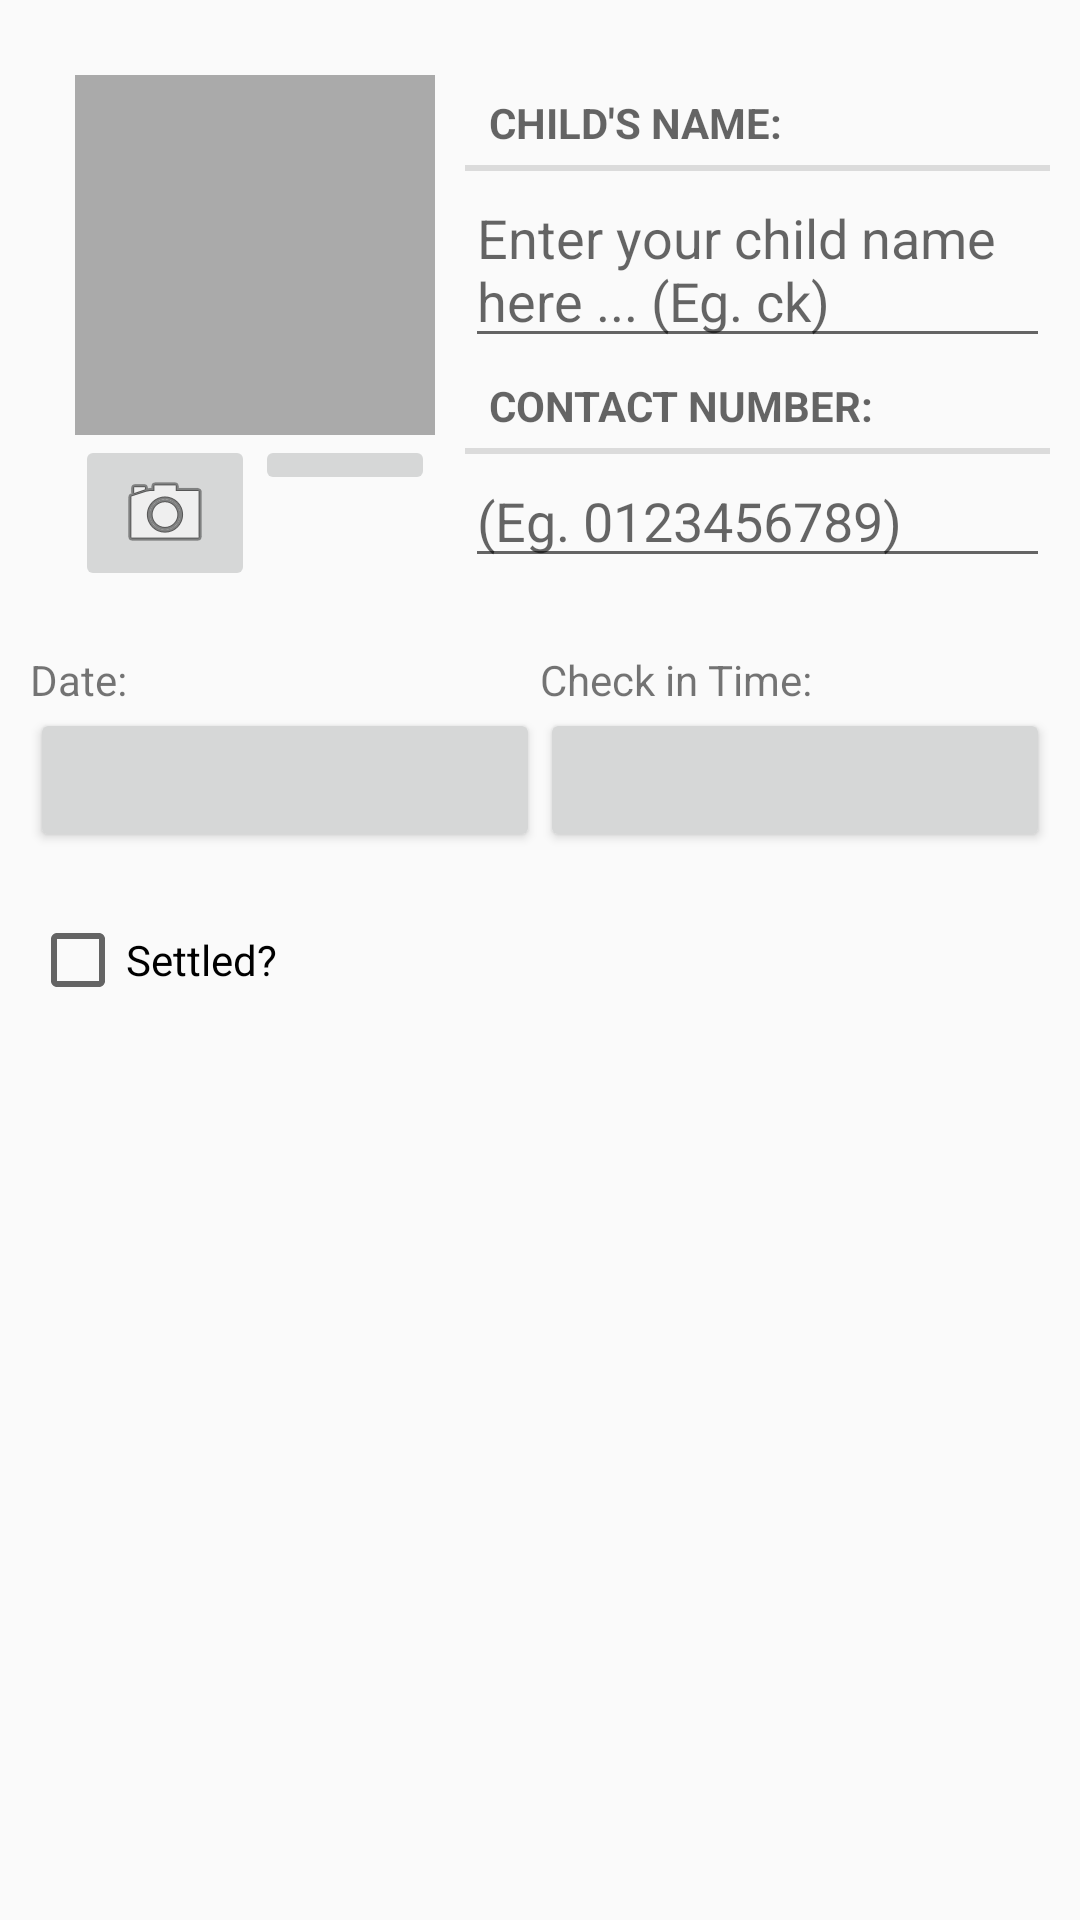

Screen size 1080px×1920px. Icon name, then its box in pixels as (x1, y1, x2, y2):
camera: (87, 453, 243, 573)
